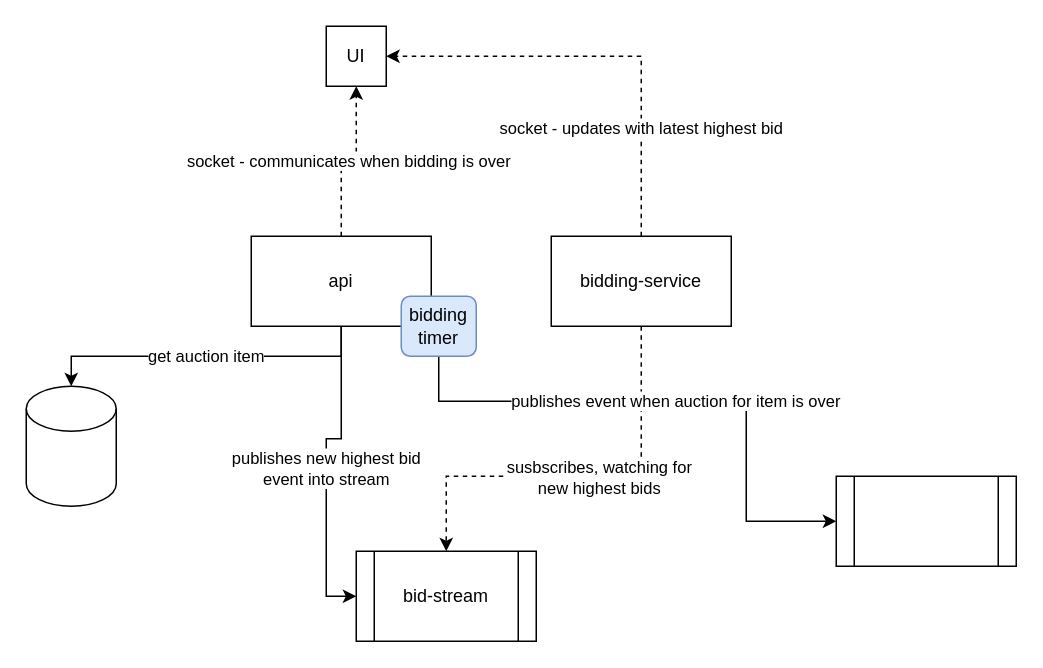
The diagram is 1043 pixels wide and 668 high, and some of its shapes have lost their labels. The shapes that lost their labels are listed below. From the top down, each one's centre as x and y in pixels, then its label:
point 70,445: ReJSON
point 925,520: bidding-finished-stream
